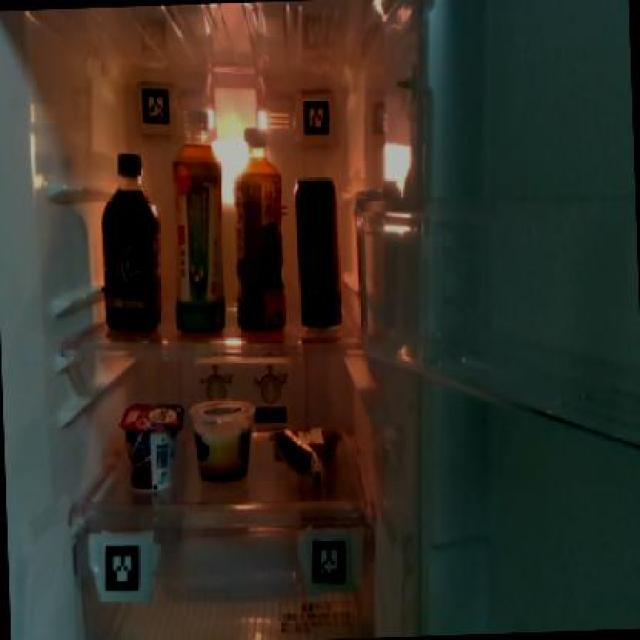coffee: (96, 150, 162, 335)
energy_drink: (289, 172, 345, 333)
pudding: (187, 396, 256, 484)
rice_ball: (267, 422, 344, 486)
tea_a: (227, 123, 288, 332)
tea_i: (168, 124, 228, 333)
yogurt: (118, 398, 185, 491)
